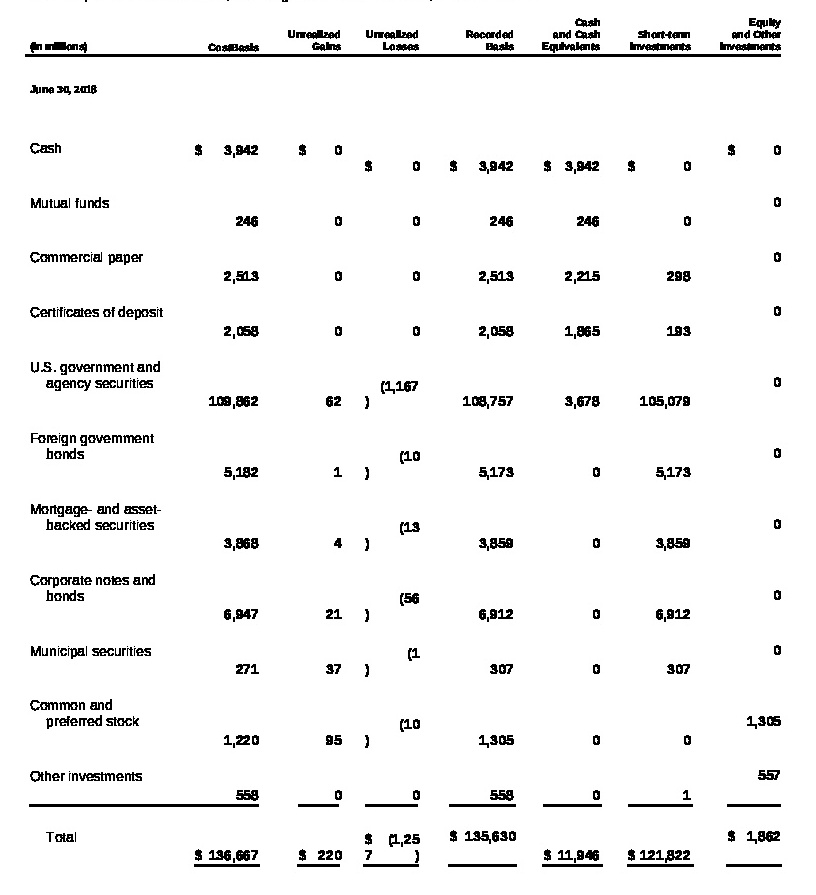table: (0, 0, 816, 895)
